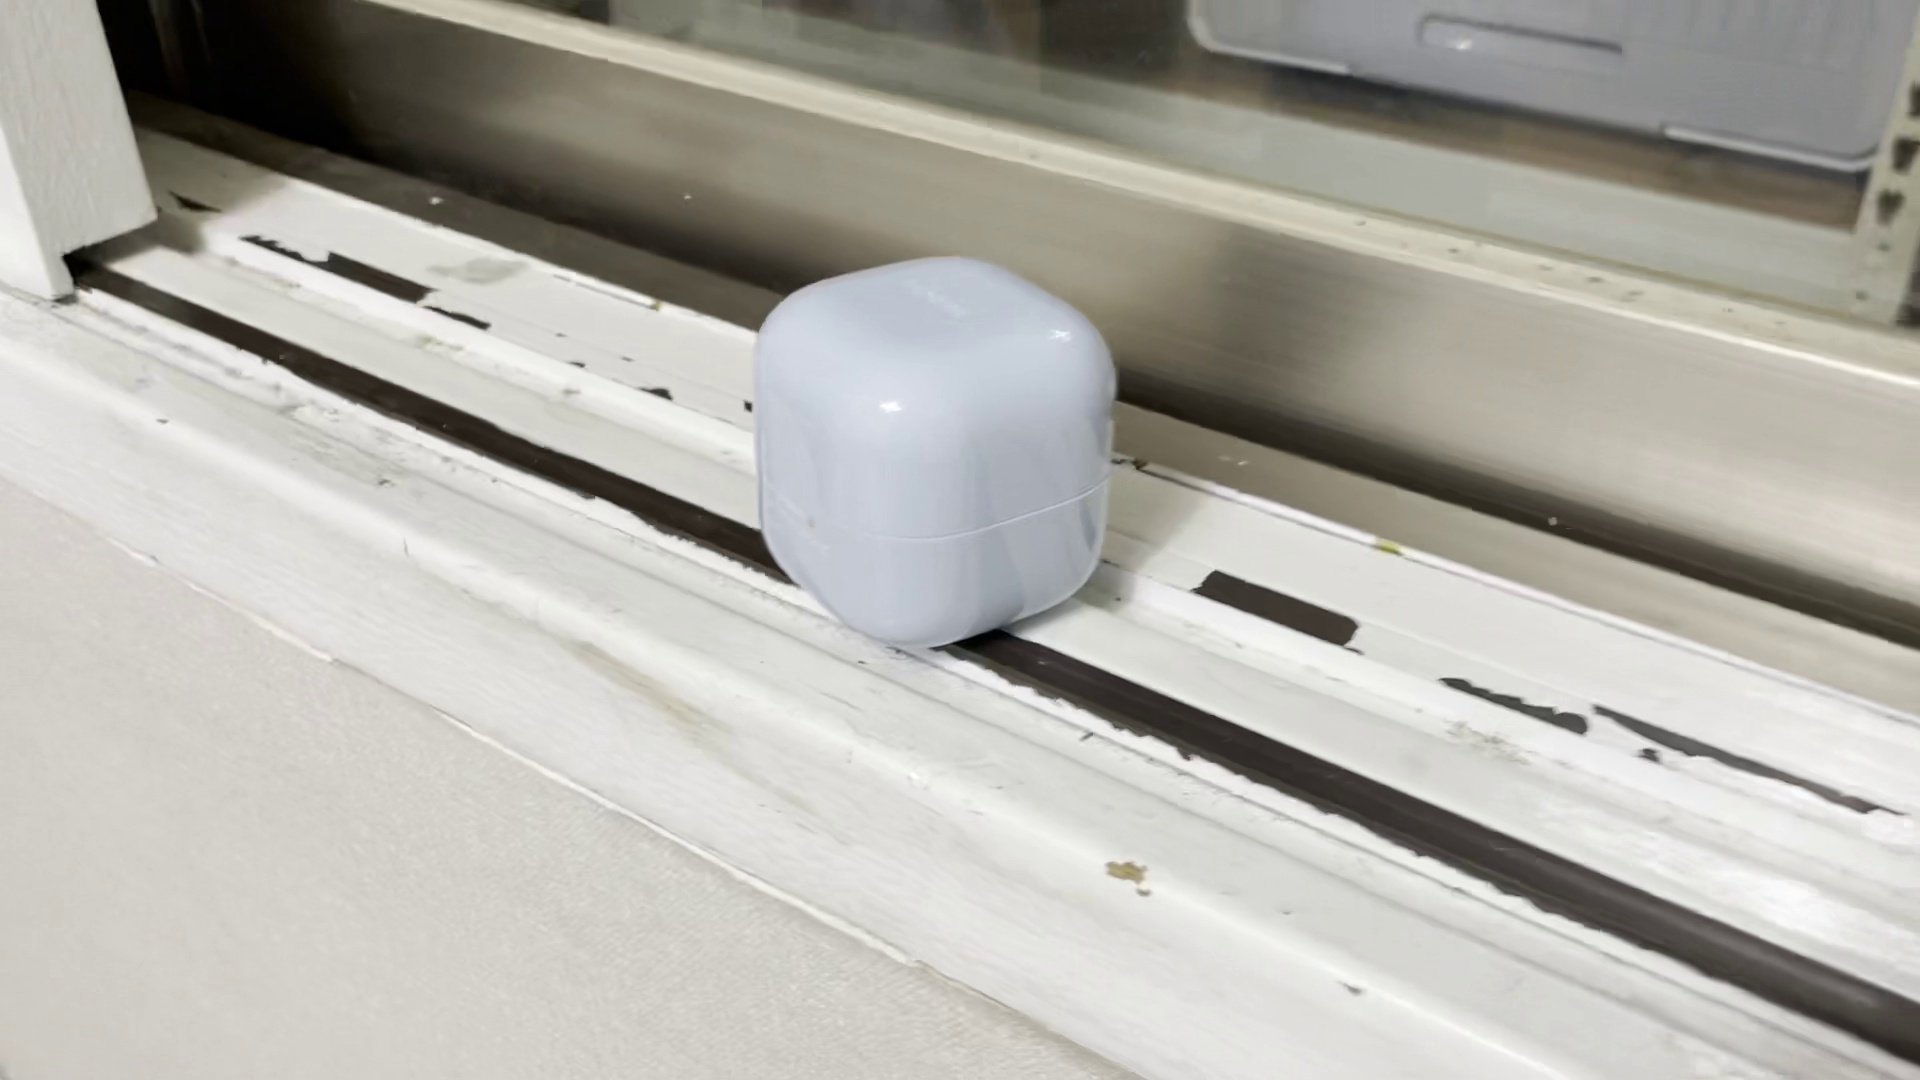cream: (752, 252, 1116, 647)
